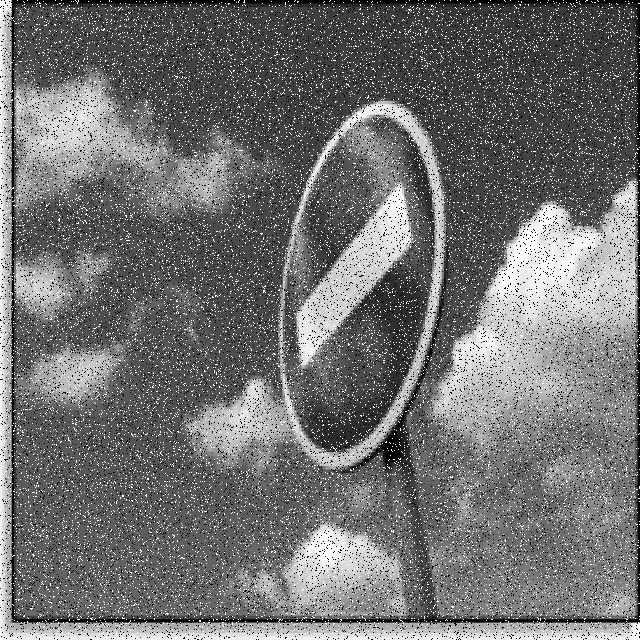no entry: (283, 115, 437, 452)
